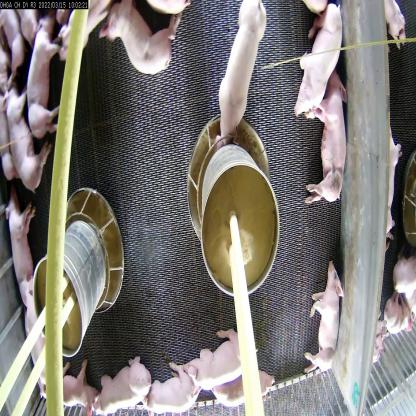Pig: (221, 0, 266, 136), (285, 0, 336, 117), (106, 1, 172, 82), (22, 0, 59, 130), (312, 82, 348, 198), (310, 261, 339, 374), (98, 352, 154, 410), (188, 324, 242, 382), (139, 365, 199, 416), (2, 90, 34, 183), (208, 350, 260, 406), (2, 190, 30, 290)
